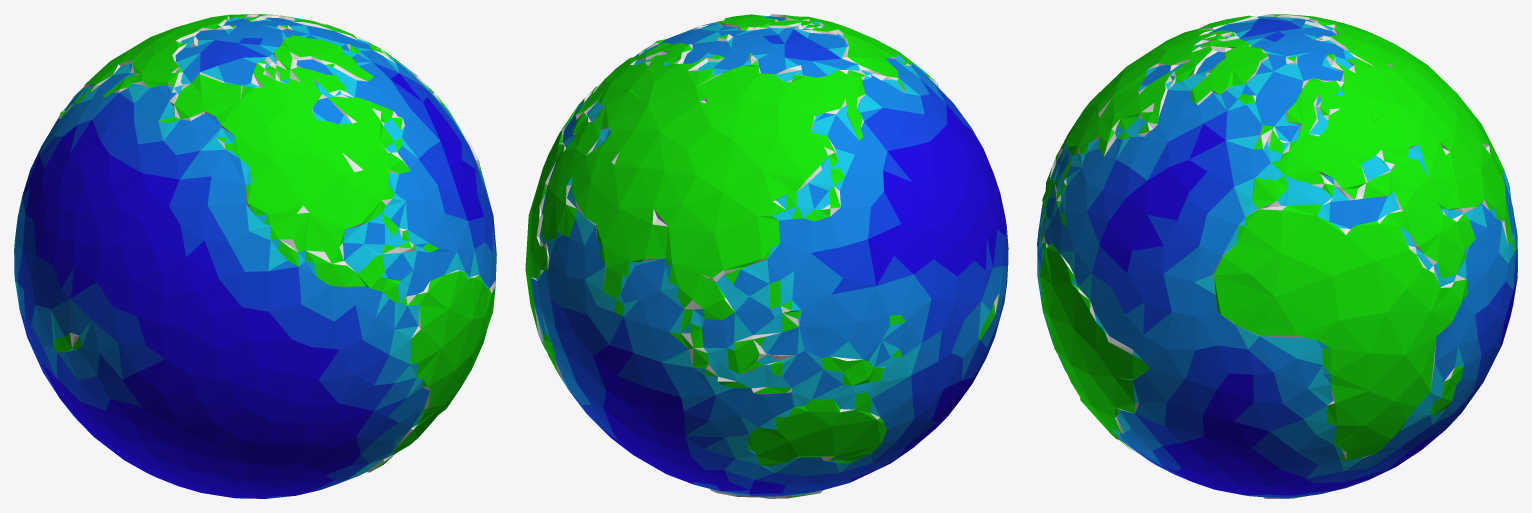
The model's file is earth.glb.
The picture shows the model from 3 angles, left to right: view 1: azimuth 30°, elevation 25°; view 2: azimuth 150°, elevation 25°; view 3: azimuth 270°, elevation 25°; orthographic projection.
Visible parts, largest first — view 1: Sphere; view 2: Sphere; view 3: Sphere.
Part boxes in pixels (bbox=[...]): Sphere: bbox=[14, 14, 496, 498]; Sphere: bbox=[525, 14, 1008, 498]; Sphere: bbox=[1037, 14, 1517, 498].
Bounding box in the file's own units: 8.02 × 8.07 × 7.99.
